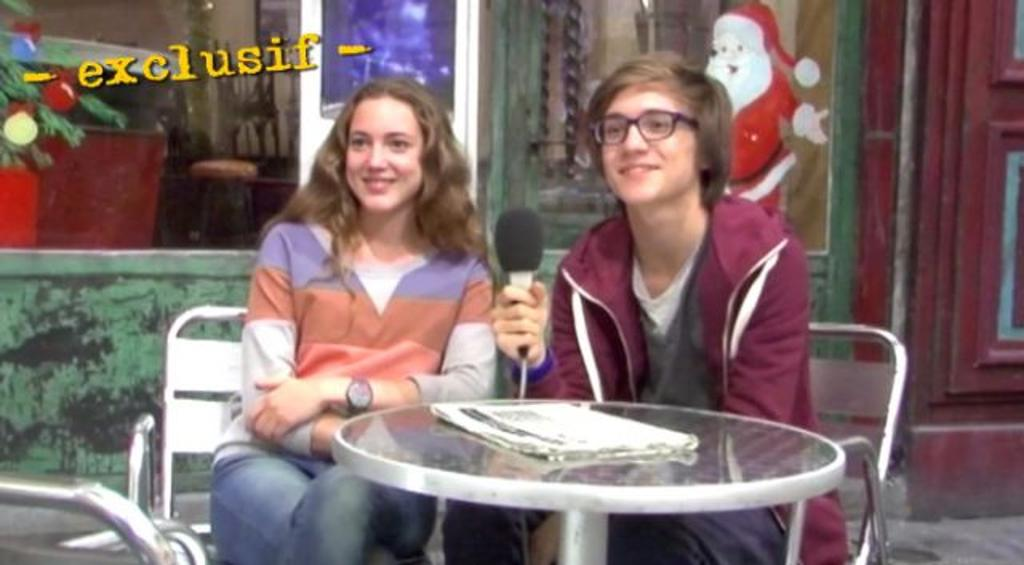face: (602, 86, 700, 200), (348, 98, 426, 206)
